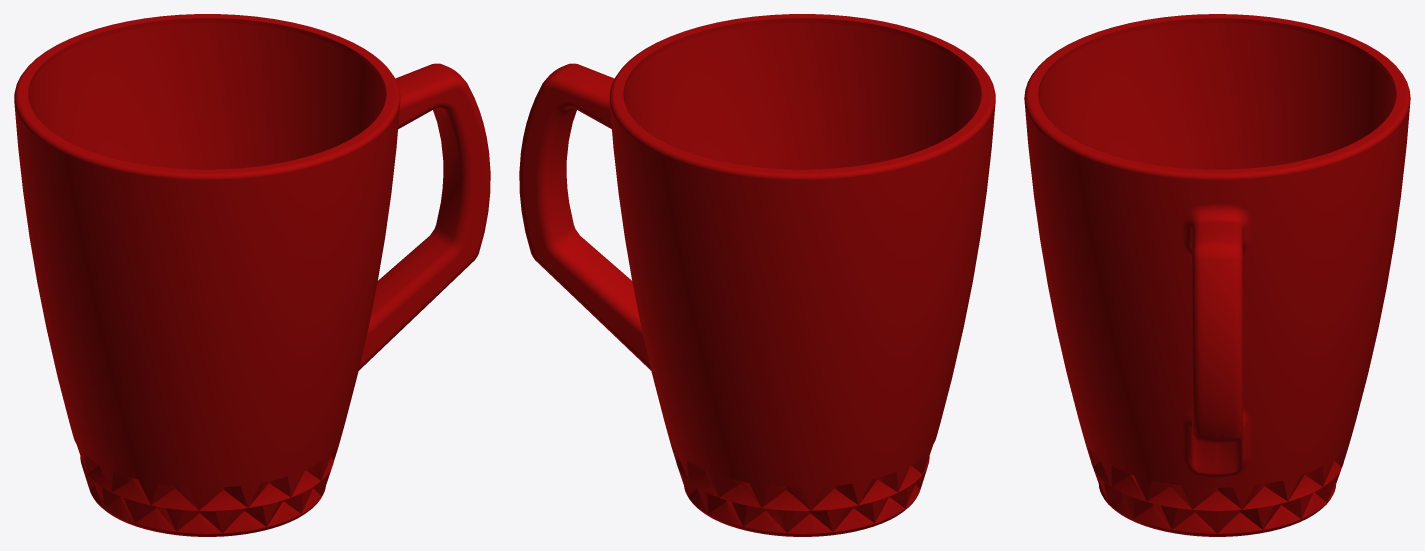
File: CM-MUG042.glb
3 renders of one model, left to right at view 1: azimuth 30°, elevation 25°; view 2: azimuth 150°, elevation 25°; view 3: azimuth 270°, elevation 25°, orthographic.
Bounding box in the file's own units: 0.1006 × 0.086 × 0.076.
